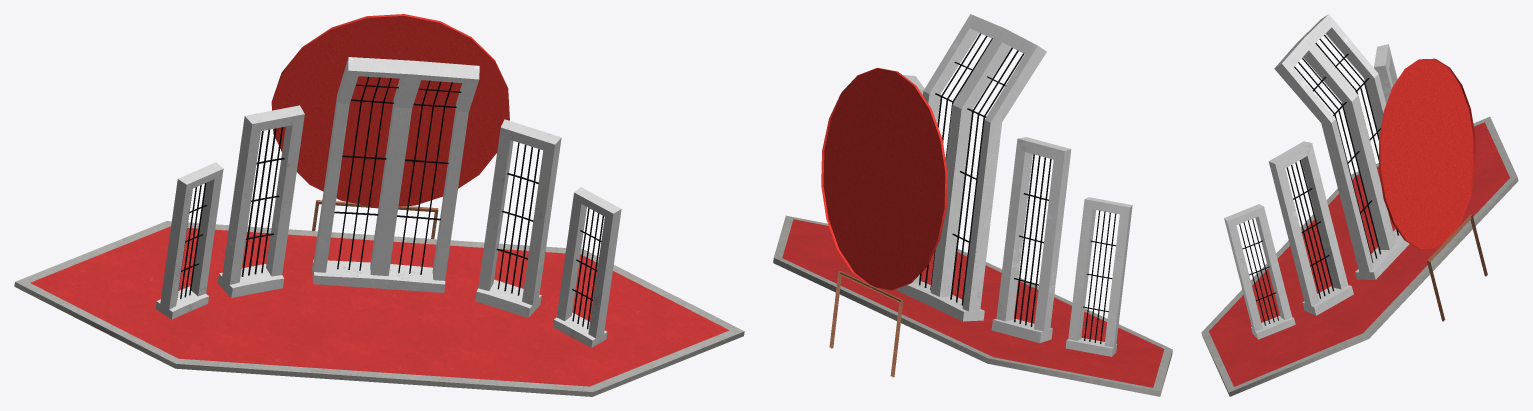
Rendered from minar.glb.
3 views of the same model, side by side, from view 1: azimuth 30°, elevation 25°; view 2: azimuth 150°, elevation 25°; view 3: azimuth 270°, elevation 25° (orthographic). The views are drawn at different scales.
Parts seen in each view (by area): view 1: Floor_Mesh; view 2: Floor_Mesh; view 3: Floor_Mesh.
Part boxes in pixels (x1,y1,x2,y2): Floor_Mesh: (14,14,744,396); Floor_Mesh: (773,14,1172,396); Floor_Mesh: (1201,14,1518,396).
Size of the model in its own units: 21.81 by 11.86 by 13.2.
Materials: 5 (5 with a texture image).
